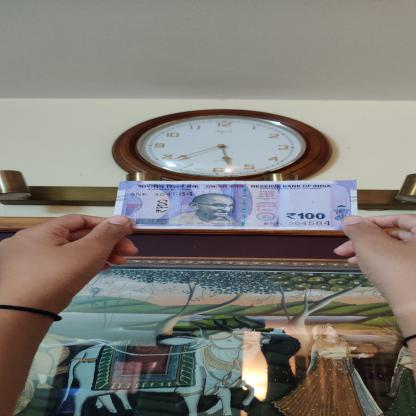New100Front: (105, 179, 361, 232)
